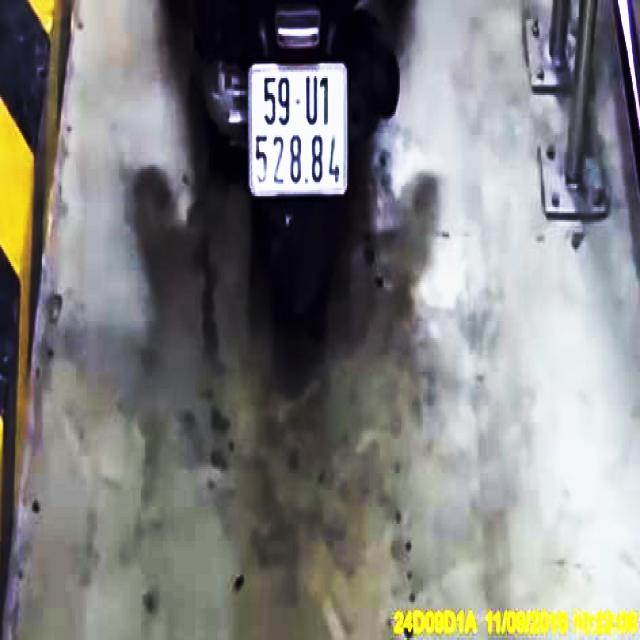license_plate: (253, 65, 349, 199)
